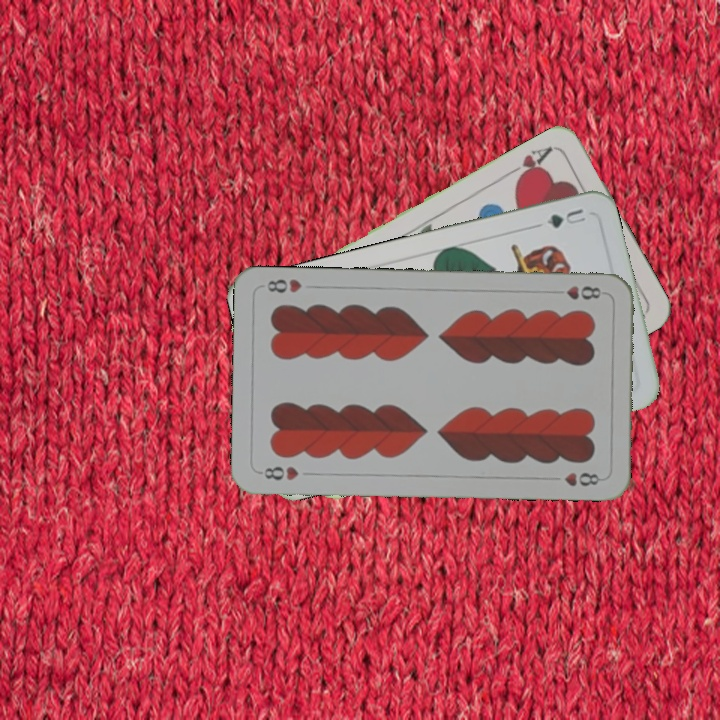GU: (542, 204, 589, 231)
H8: (255, 462, 301, 483), (563, 282, 603, 302)
HA: (503, 142, 556, 185)
